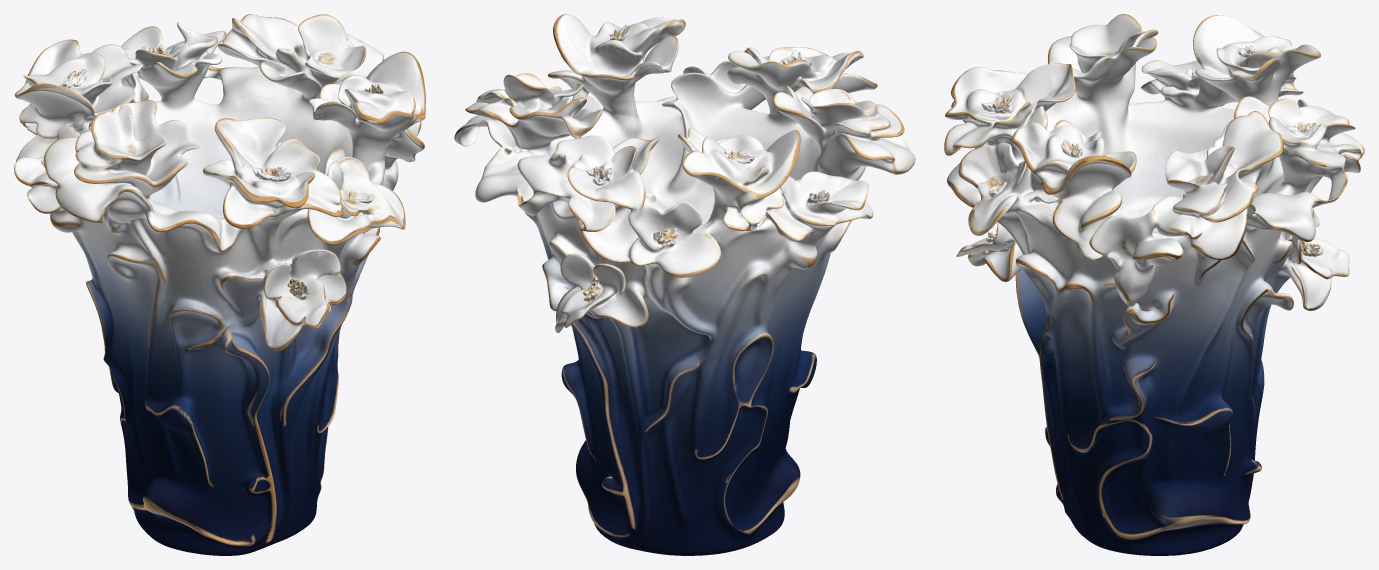
The picture shows the model from 3 angles, left to right: view 1: azimuth 30°, elevation 25°; view 2: azimuth 150°, elevation 25°; view 3: azimuth 270°, elevation 25°; orthographic projection.
Visible parts, largest first — view 1: Mesh_0.002; view 2: Mesh_0.002; view 3: Mesh_0.002.
Part boxes in pixels (bbox=[...]): Mesh_0.002: bbox=[14, 14, 425, 555]; Mesh_0.002: bbox=[454, 14, 915, 555]; Mesh_0.002: bbox=[944, 14, 1364, 555].
Bounding box in the file's own units: 8977 × 9825 × 8511.
Materials: 2 (1 with a texture image).
